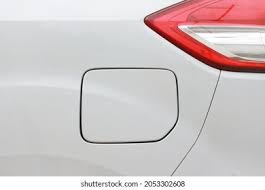closed: (77, 63, 183, 145)
